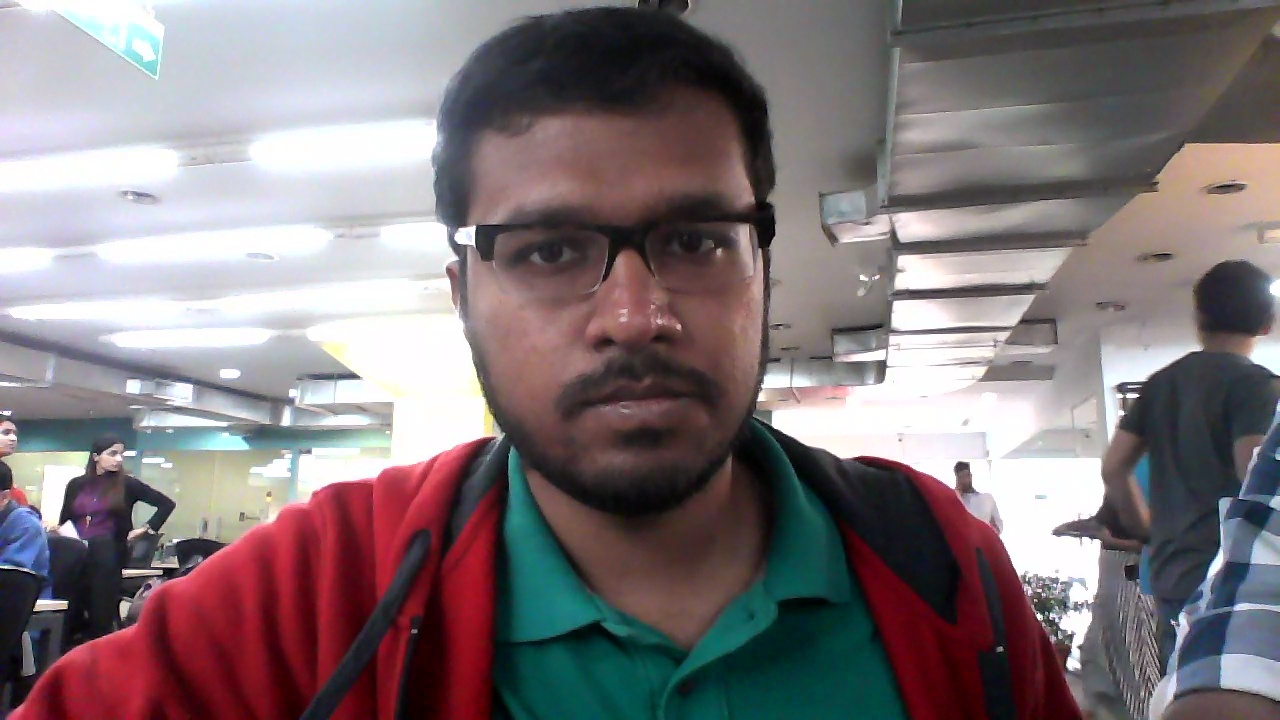open: (447, 35, 787, 494)
